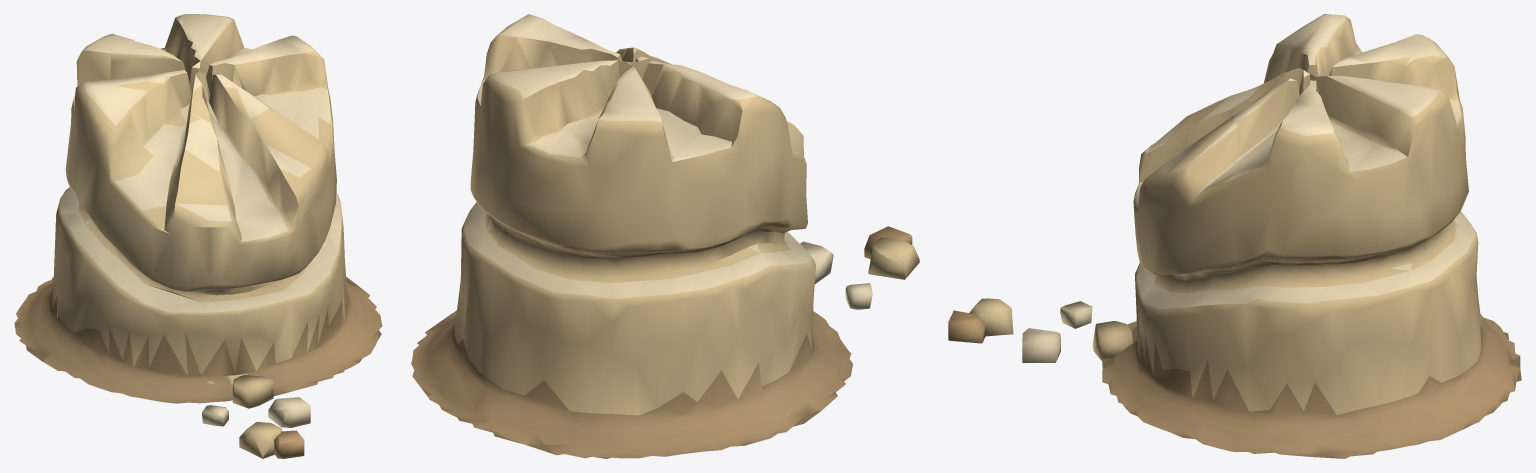
Rendered from shore_sand_pie_a.glb.
3 renders of one model, left to right at view 1: azimuth 30°, elevation 25°; view 2: azimuth 150°, elevation 25°; view 3: azimuth 270°, elevation 25°, orthographic. The views are drawn at different scales.
Visible parts, largest first — view 1: shore_sand_pie_a; view 2: shore_sand_pie_a; view 3: shore_sand_pie_a.
Part boxes in pixels (x1,y1,x2,y2): shore_sand_pie_a: [14, 14, 382, 458]; shore_sand_pie_a: [411, 14, 919, 458]; shore_sand_pie_a: [948, 14, 1521, 458].
Size of the model in its own units: 4.36 by 3.47 by 5.92.
